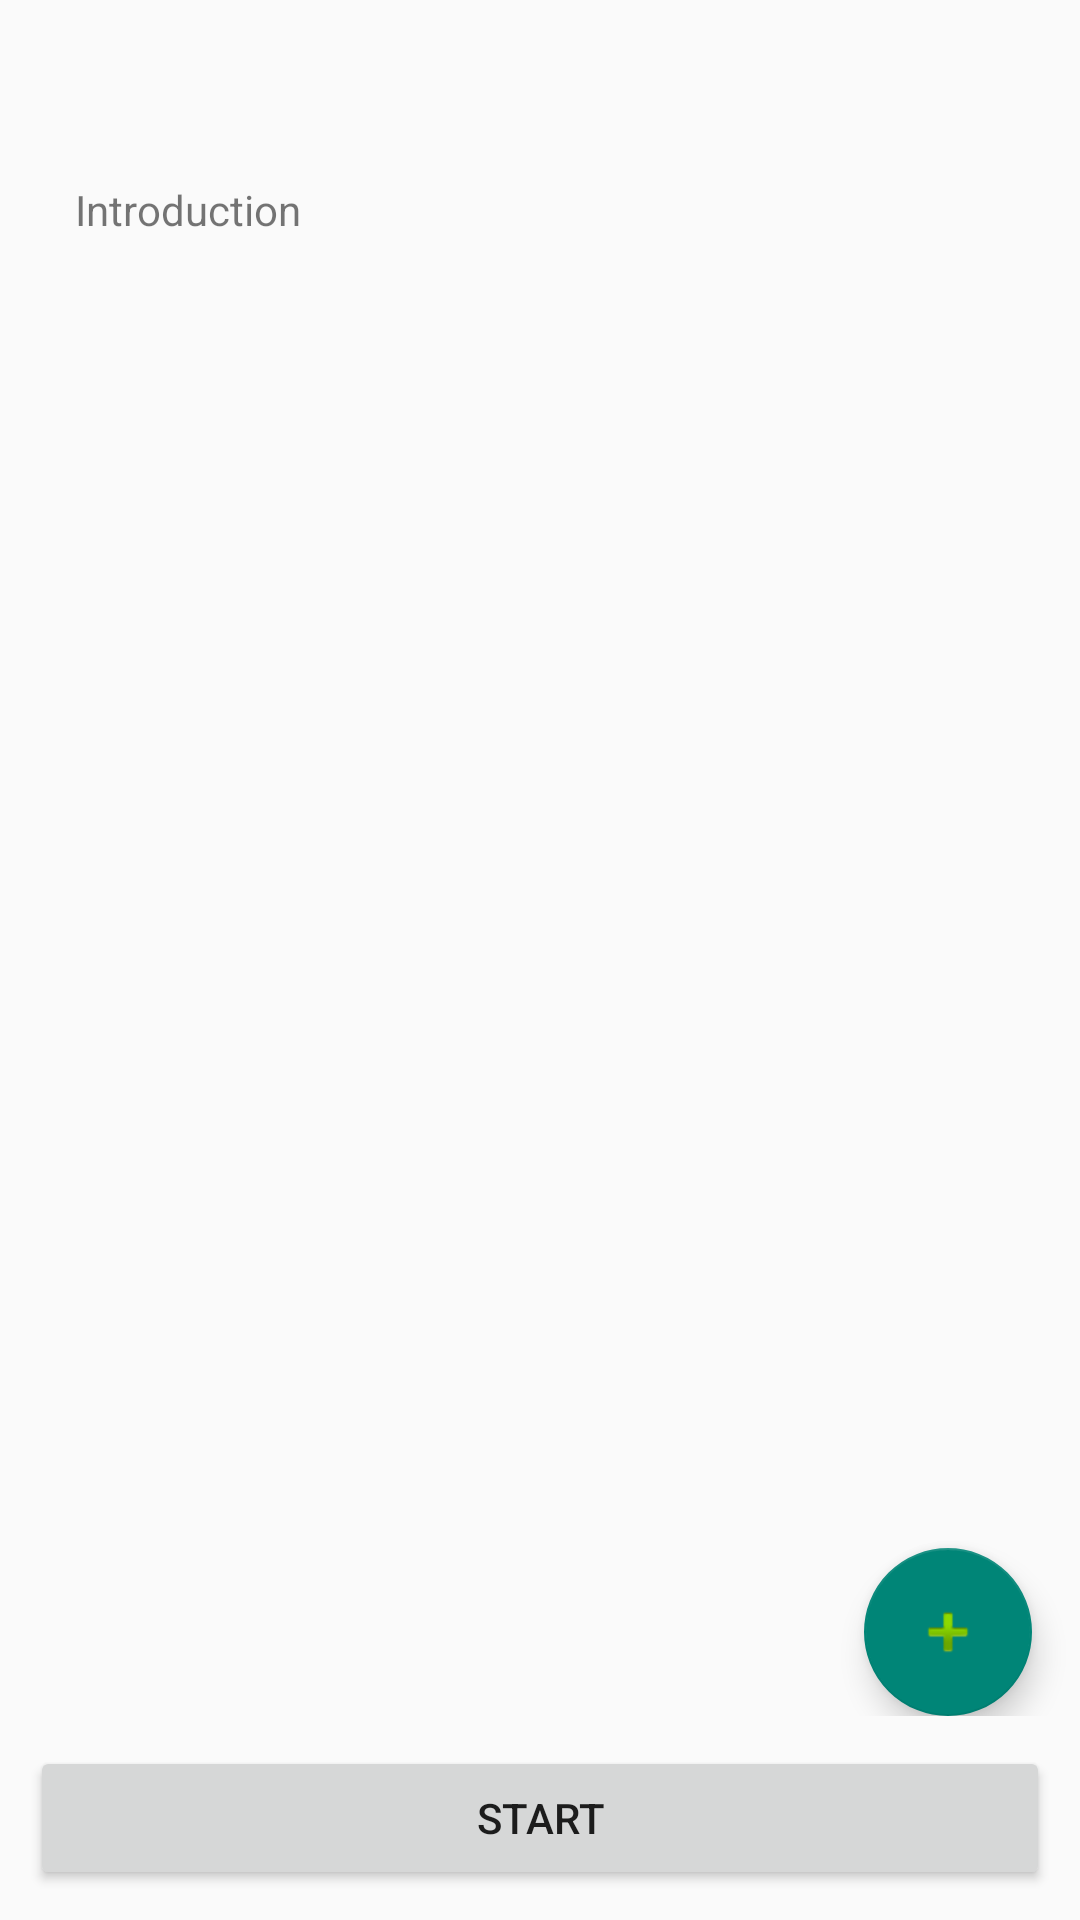

Named icons in this screenshot (1080x1920) and their bounding boxes, region(x1, y1, x2, y2):
add: region(864, 1548, 1032, 1716)
